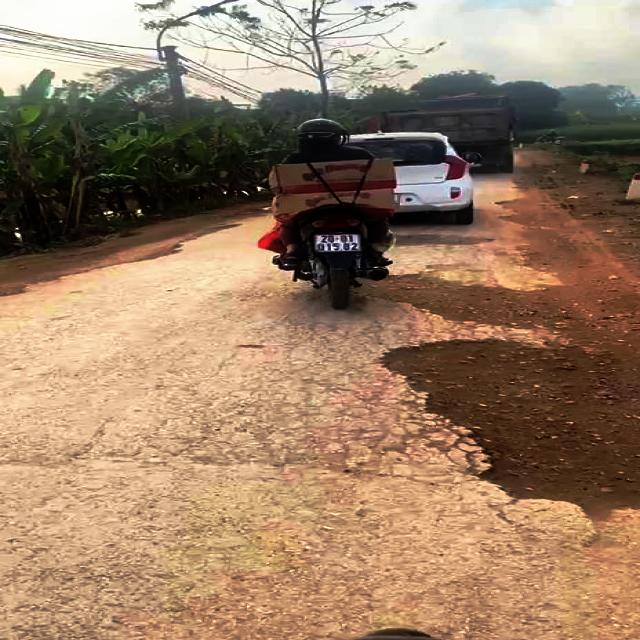pothole: (371, 336, 640, 524), (363, 273, 583, 340), (385, 232, 492, 250), (119, 243, 182, 268)
